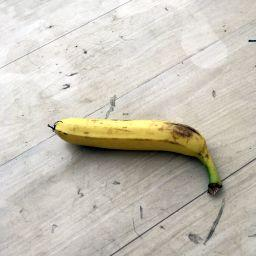Banana Ripe: (51, 109, 222, 203)
